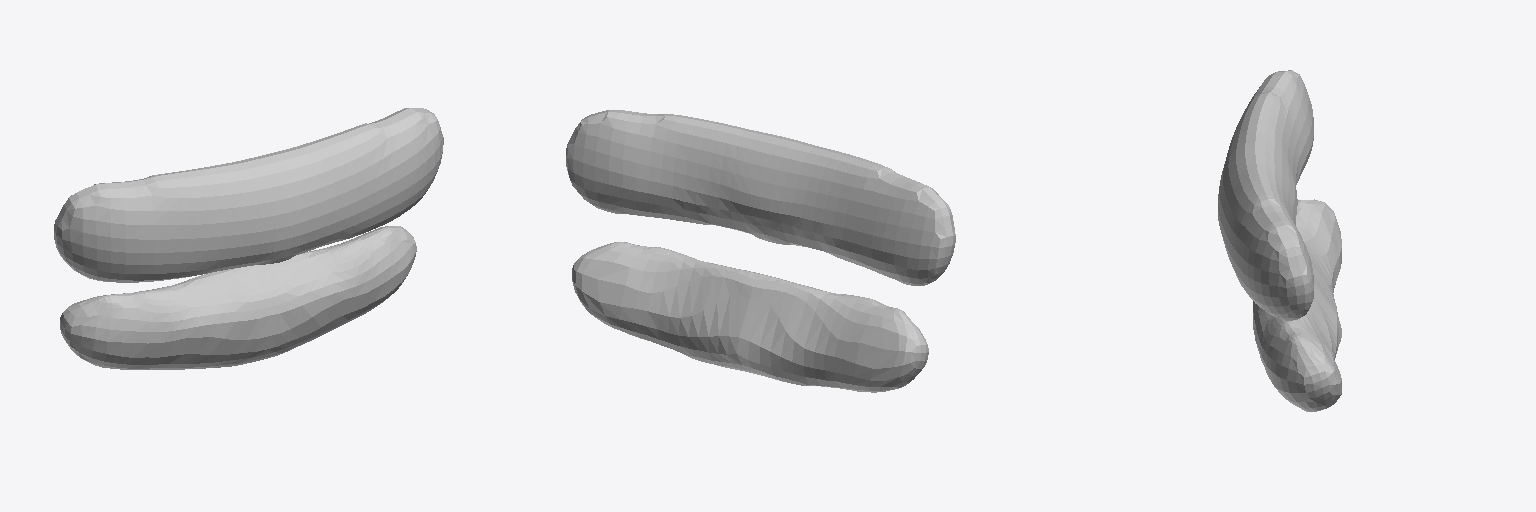
File: Lips.obj
3 renders of one model, left to right at view 1: azimuth 30°, elevation 25°; view 2: azimuth 150°, elevation 25°; view 3: azimuth 270°, elevation 25°, orthographic.
Visible parts, largest first — view 1: Group9210, Group9906, Group9639, Group9606, Group9970; view 2: Group9970, Group9906, Group9639; view 3: Group9210, Group9970, Group9906, Group9639, Group9606.
Boxes of the visible parts, <box> form: Group9210: <box>56,112,443,369</box>; Group9906: <box>60,226,403,333</box>; Group9639: <box>54,108,433,256</box>; Group9606: <box>61,228,413,340</box>; Group9970: <box>68,108,408,198</box>; Group9970: <box>566,112,946,285</box>; Group9906: <box>572,242,920,392</box>; Group9639: <box>581,110,952,284</box>; Group9210: <box>1218,72,1316,411</box>; Group9970: <box>1255,70,1313,316</box>; Group9906: <box>1287,199,1341,408</box>; Group9639: <box>1245,70,1304,320</box>; Group9606: <box>1282,200,1325,410</box>.
Bounding box in the file's own units: 0.0573 × 0.0314 × 0.0161.